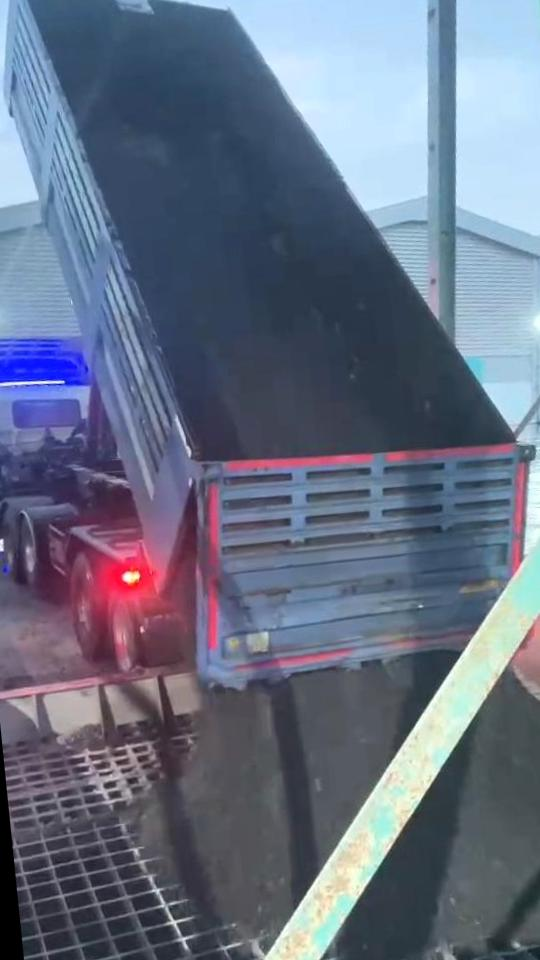gravel: (90, 132, 381, 461), (132, 654, 451, 941), (338, 674, 540, 960)
